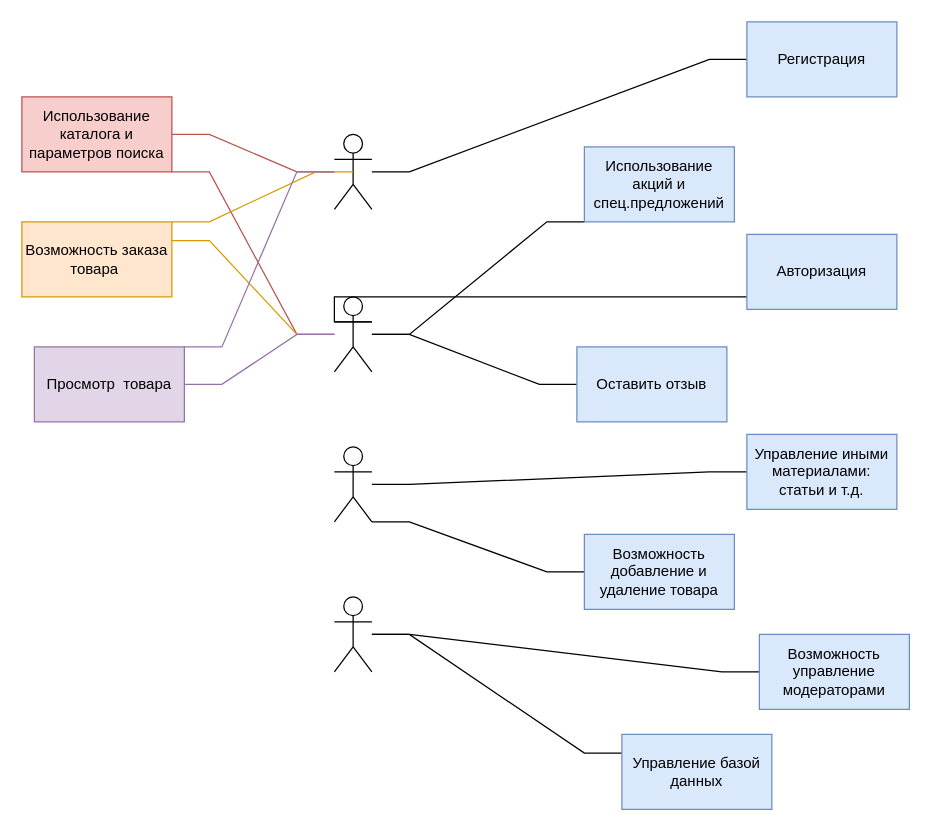
Image size: 931x831. Some labels were removed from this diagram. The shapes that lost their labels are listed below. From the top down, each one's centre as x and y in pixels, then its label:
At (x=352, y=171): "Незарегистрированный пользователь".
At (x=352, y=334): "Пользователь".
At (x=352, y=484): "Модератор".
At (x=352, y=634): "Админ".
